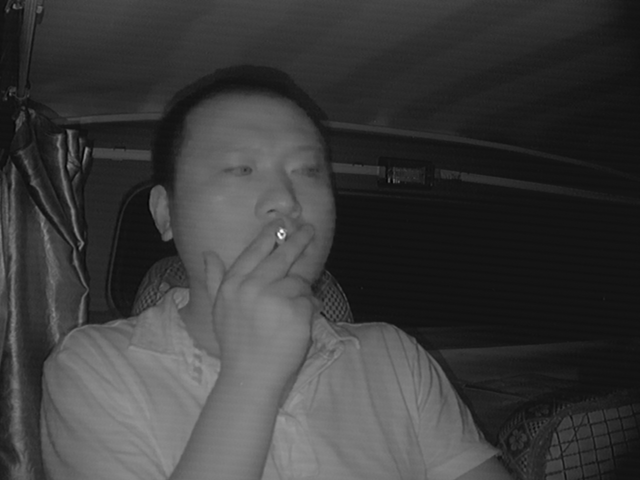hand: (215, 220, 325, 336)
